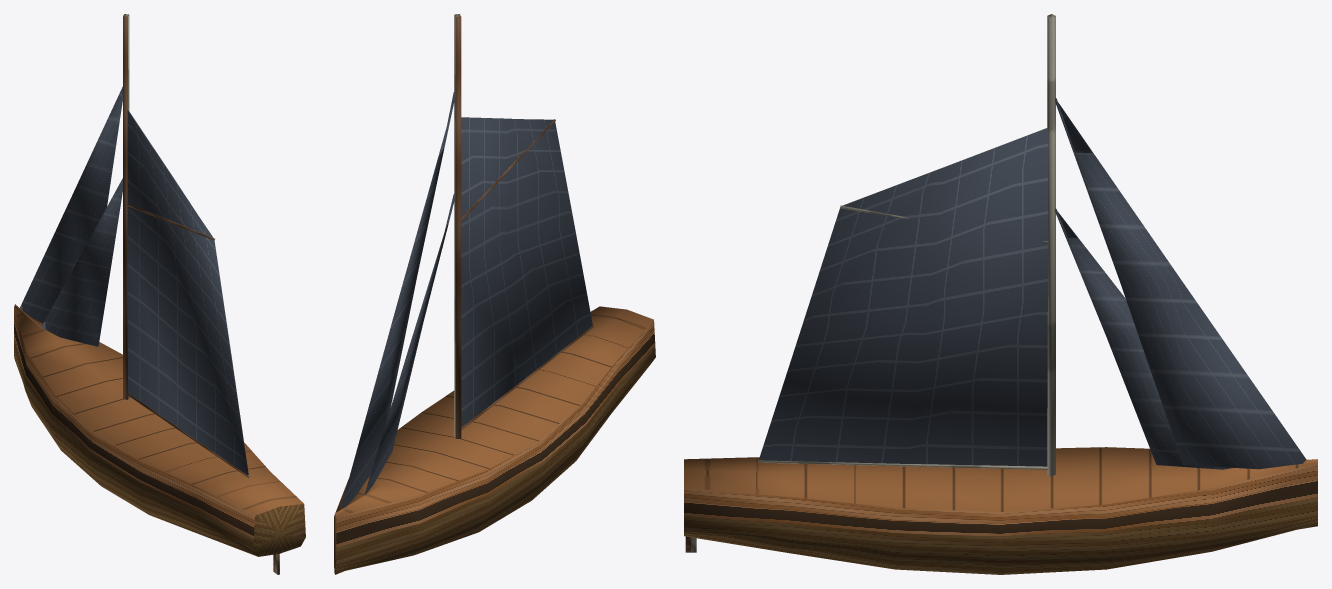
The model's file is SHIP-L_LOD2.fbx.
The picture shows the model from 3 angles, left to right: view 1: azimuth 30°, elevation 25°; view 2: azimuth 150°, elevation 25°; view 3: azimuth 270°, elevation 25°; orthographic projection. The views are drawn at different scales.
Parts seen in each view (by area): view 1: Sails, Hull, Masts; view 2: Sails, Hull, Masts; view 3: Sails, Hull, Masts.
Boxes of the visible parts, x1,y1,x2,y2 form: Sails: (20,86,248,475); Hull: (14,304,305,556); Masts: (123,14,279,574); Sails: (340,91,592,509); Hull: (334,306,655,574); Masts: (454,14,593,438); Sails: (759,97,1306,469); Hull: (684,447,1317,574); Masts: (685,14,1055,552).
Bounding box in the file's own units: 4 × 16 × 15.2.
3 materials, 3 textured.
